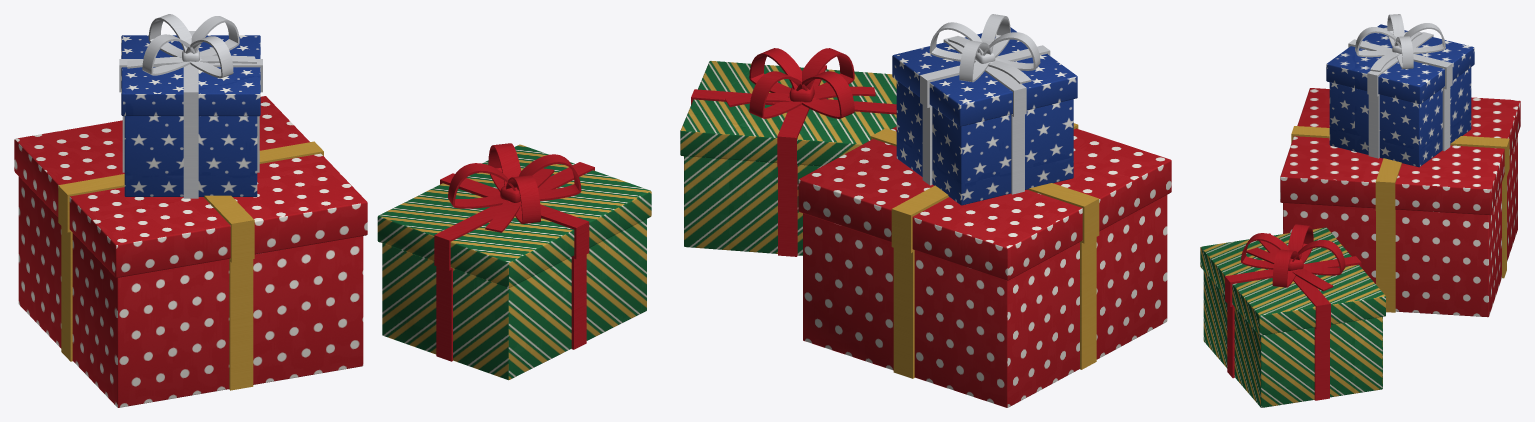
File: gift-box-collection.glb
3 views of the same model, side by side, from view 1: azimuth 30°, elevation 25°; view 2: azimuth 150°, elevation 25°; view 3: azimuth 270°, elevation 25° (orthographic). The views are drawn at different scales.
Parts seen in each view (by area): view 1: Large box, Medium box, Small box, Medium ribbon and bow, Large ribbon and bow, Small ribbon and bow; view 2: Large box, Medium box, Small box, Medium ribbon and bow, Large ribbon and bow, Small ribbon and bow; view 3: Large box, Medium box, Small box, Medium ribbon and bow, Small ribbon and bow, Large ribbon and bow.
Boxes of the visible parts, box(x1,y1,x2,y2) form: Large box: box(14, 96, 367, 407); Medium box: box(377, 144, 651, 380); Small box: box(121, 35, 260, 196); Medium ribbon and bow: box(434, 143, 594, 361); Large ribbon and bow: box(58, 141, 323, 390); Small ribbon and bow: box(119, 14, 262, 198); Large box: box(798, 126, 1171, 407); Medium box: box(680, 61, 896, 255); Small box: box(892, 27, 1077, 205); Medium ribbon and bow: box(691, 48, 896, 256); Large ribbon and bow: box(870, 123, 1099, 378); Small ribbon and bow: box(920, 14, 1050, 194); Large box: box(1280, 88, 1520, 317); Medium box: box(1200, 227, 1385, 407); Small box: box(1326, 24, 1474, 167); Medium ribbon and bow: box(1225, 224, 1361, 400); Small ribbon and bow: box(1348, 14, 1452, 158); Large ribbon and bow: box(1291, 126, 1509, 312).
Size of the model in its own units: 0.7008 by 0.4085 by 0.4929.
Materials: 6 (6 with a texture image).
